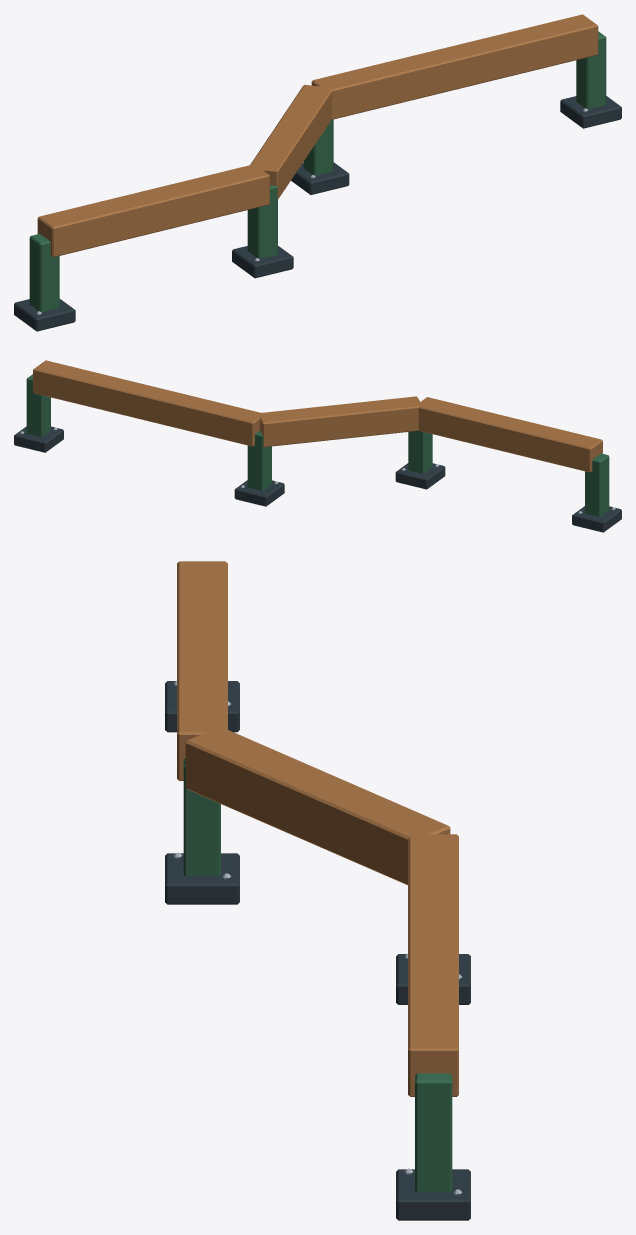
File: b09_zigzag_balance_beam.glb
3 views of the same model, one above another, from view 1: azimuth 30°, elevation 25°; view 2: azimuth 150°, elevation 25°; view 3: azimuth 270°, elevation 25° (orthographic). The views are drawn at different scales.
Visible parts, largest first — view 1: b09_zigzag_balance_beam; view 2: b09_zigzag_balance_beam; view 3: b09_zigzag_balance_beam.
Part boxes in pixels (x1,y1,x2,y2): b09_zigzag_balance_beam: (14,14,621,331); b09_zigzag_balance_beam: (14,360,621,532); b09_zigzag_balance_beam: (165,561,470,1220).
Bounding box in the file's own units: 3.62 × 0.51 × 0.9.
